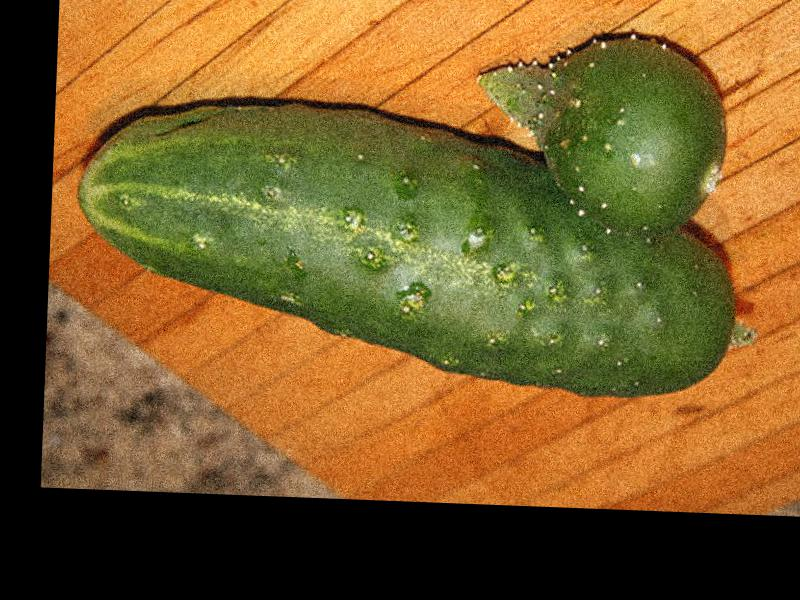Cucumber: (69, 93, 743, 401)
